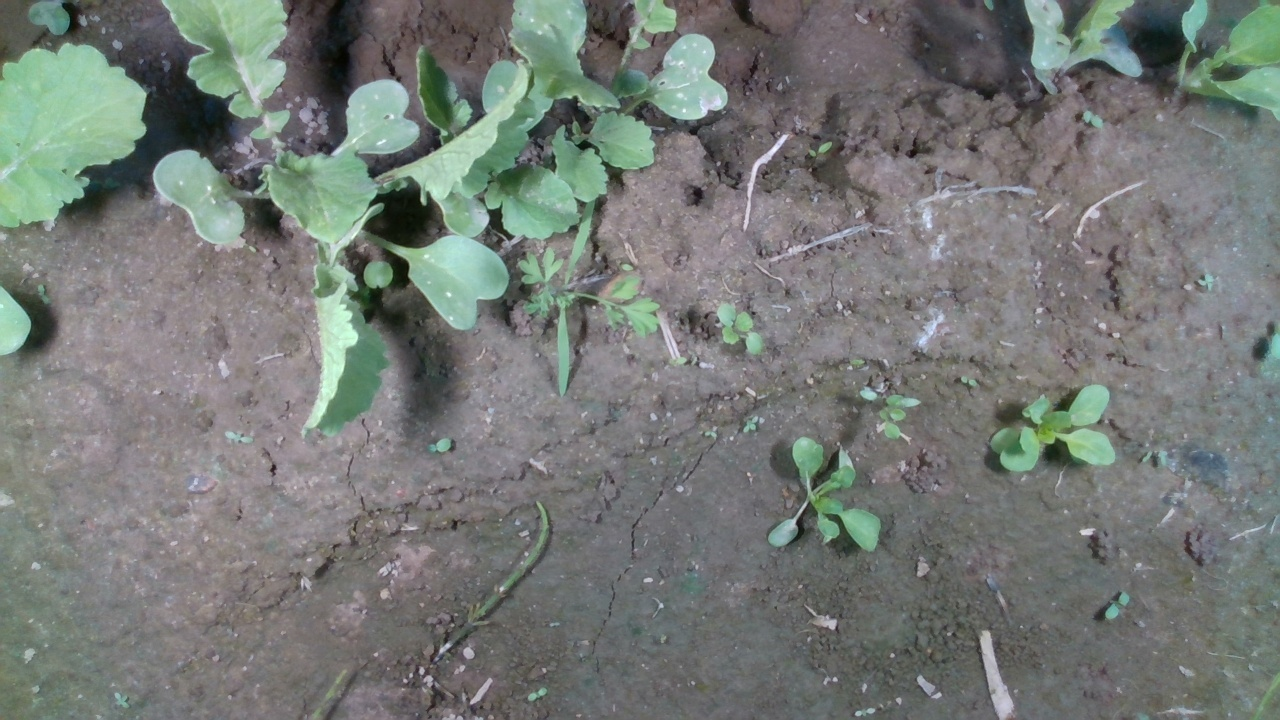weed: (715, 302, 767, 356), (1104, 589, 1131, 620), (806, 140, 833, 157), (223, 430, 255, 444), (425, 436, 452, 452), (741, 415, 759, 434), (526, 687, 548, 702), (113, 692, 131, 710), (959, 375, 979, 389)
